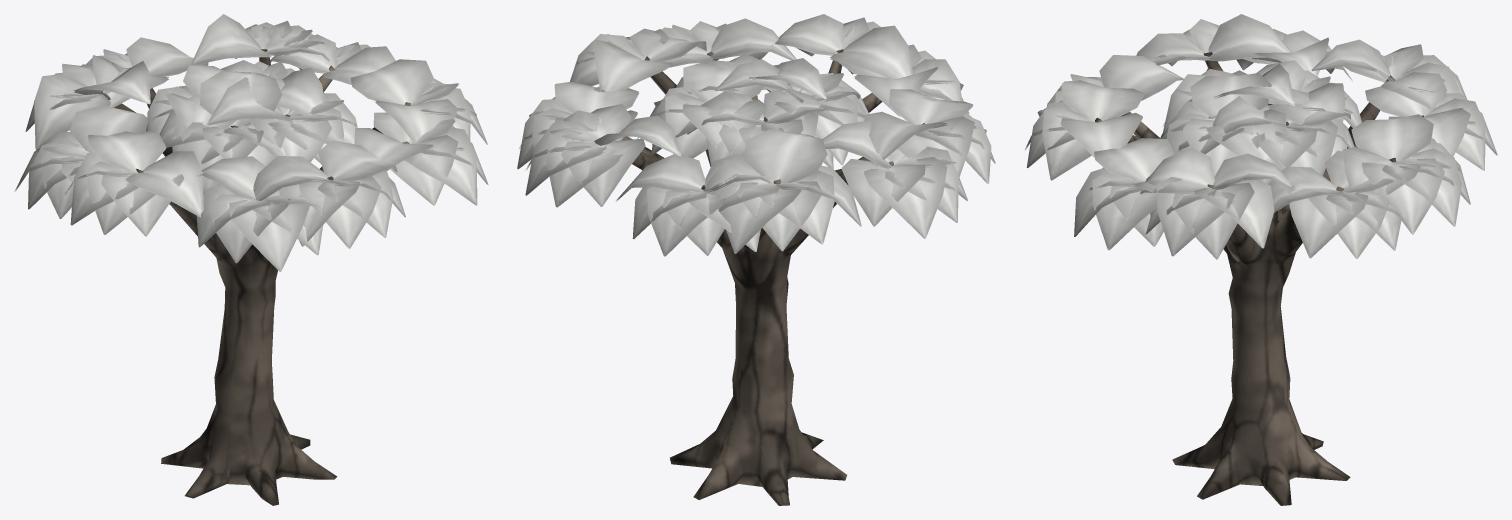
File: LeavedLargeA.fbx
3 renders of one model, left to right at view 1: azimuth 30°, elevation 25°; view 2: azimuth 150°, elevation 25°; view 3: azimuth 270°, elevation 25°, orthographic. The views are drawn at different scales.
Parts seen in each view (by area): view 1: LeavedLargeA; view 2: LeavedLargeA; view 3: LeavedLargeA.
Part boxes in pixels (x1=…): LeavedLargeA: x1=14, y1=14, x2=488, y2=505; LeavedLargeA: x1=517, y1=14, x2=995, y2=505; LeavedLargeA: x1=1025, y1=14, x2=1497, y2=505.
Bounding box in the file's own units: 1 × 0.9116 × 0.9986.
Materials: 2 (2 with a texture image).
